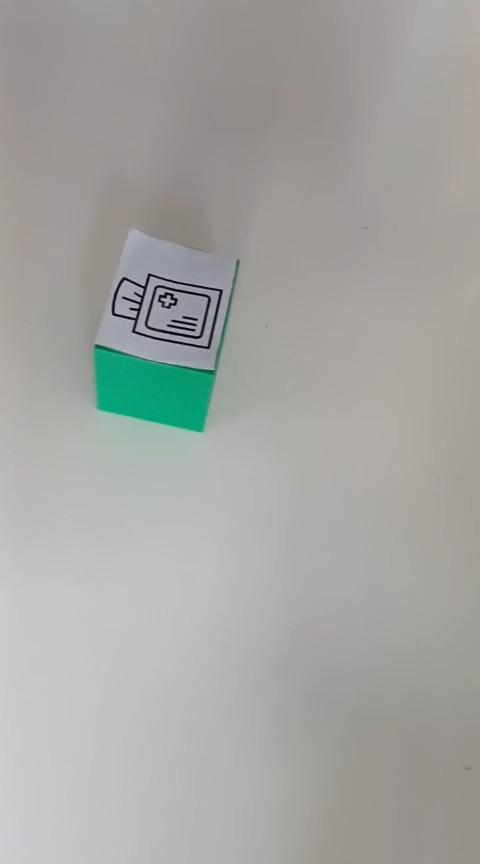Gauze: (92, 226, 240, 433)
